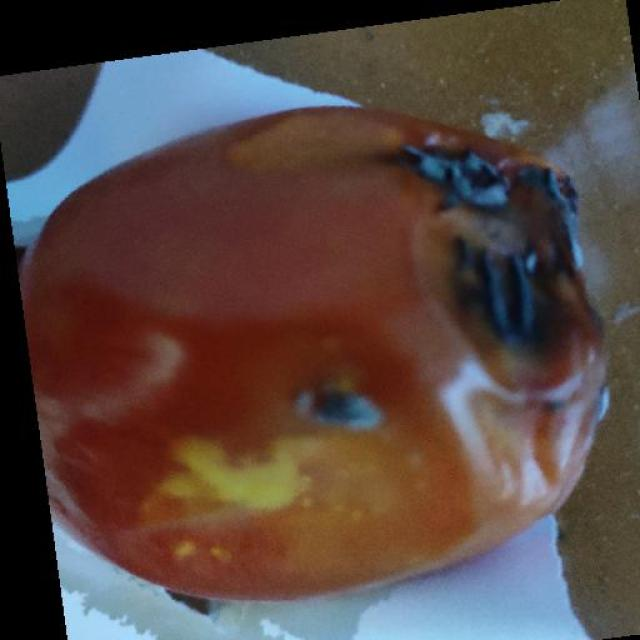Stale_tomato: (20, 120, 609, 603)
